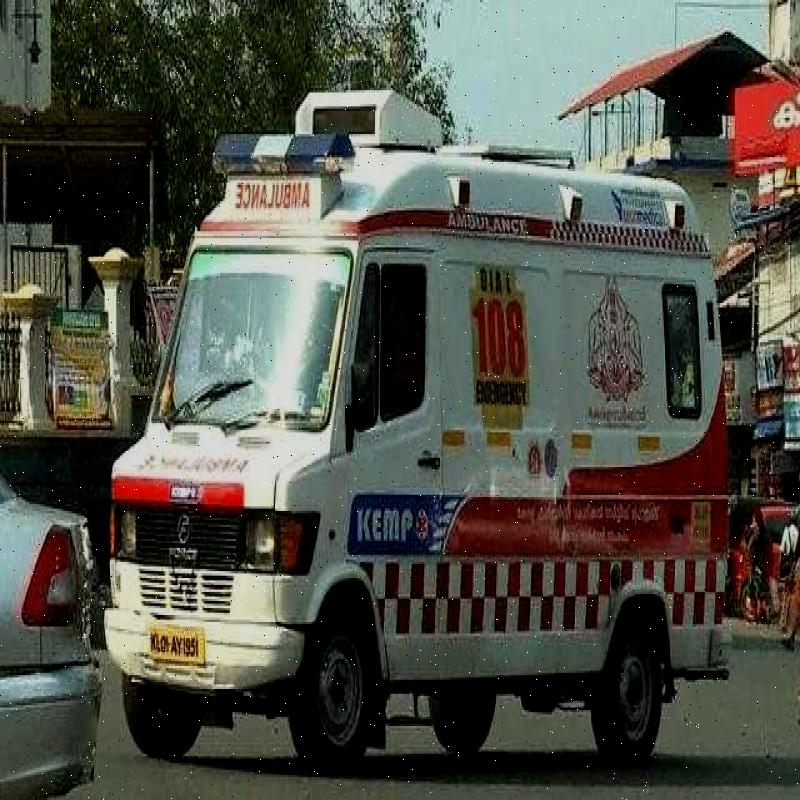AmbulanceSiren: (198, 118, 385, 193)
